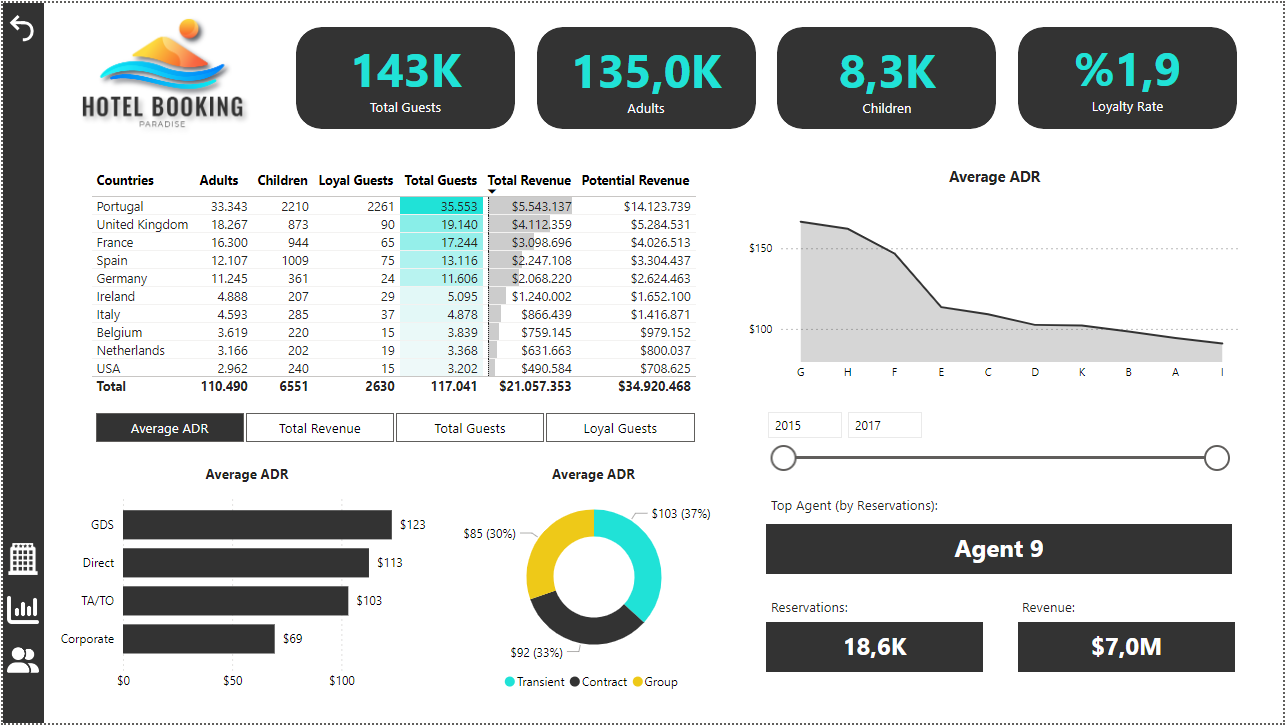

Layout of this report page (visuals, bound fields, positions):
{"tool":"powerbi","page":{"name":"Guests","canvas":[1280,720],"ordinal":2},"visuals":[{"type":"shape","title":"Left Nav Background","box":[0,0,41,720],"z":0},{"type":"shape","box":[292.7,23.7,219,102],"z":0,"group":"g2"},{"type":"card","fields":{"Values":["Measures_Table.Total Guests"]},"box":[295.7,23.7,213,98],"z":0,"group":"g3"},{"type":"group","id":"g1","title":"KPIs","box":[292.7,23.7,941,102],"z":1000},{"type":"shape","box":[533.4,23.7,219,102],"z":1000,"group":"g2"},{"type":"card","fields":{"Values":["Measures_Table.Number of Adults"]},"box":[536.7,25.7,212,97],"z":1000,"group":"g3"},{"type":"shape","box":[774,23.7,219,102],"z":2000,"group":"g2"},{"type":"card","fields":{"Values":["Measures_Table.Number of Children"]},"box":[776.7,25.7,214,97],"z":2000,"group":"g3"},{"type":"donutChart","fields":{"Y":["Measures_Table.Average ADR"],"Category":["hotel_bookings.customer_type"]},"box":[441,462,300,235],"z":2000},{"type":"actionButton","box":[0,637.2,40.9,40],"z":2000,"group":"g4"},{"type":"shape","box":[1014.7,23.7,219,102],"z":3000,"group":"g2"},{"type":"card","fields":{"Values":["Measures_Table.Lotalty Rate"]},"box":[1017.7,23.7,213,97],"z":3000,"group":"g3"},{"type":"slicer","fields":{"Values":["Guest Metric Selection.Guest Metric Selection"]},"box":[67,403,649,43],"z":3000},{"type":"actionButton","box":[0,536,41,40],"z":3000,"group":"g4"},{"type":"clusteredBarChart","fields":{"Y":["Measures_Table.Average ADR"],"Category":["hotel_bookings.distribution_channel"]},"box":[48,462,393,234],"z":4000},{"type":"actionButton","box":[0,586.6,40.9,40],"z":4000,"group":"g4"},{"type":"tableEx","title":"Top 10 Countries","fields":{"Values":["hotel_bookings.country_name","Measures_Table.Adults","Measures_Table.Children","Measures_Table.Loyal Guests","Measures_Table.Total Guests","Measures_Table.Total Revenue","Measures_Table.Potential Revenue"]},"box":[83,163,617,240],"z":5000},{"type":"group","id":"g2","title":"KPI Cards","box":[292.7,23.7,941,102],"z":6000,"group":"g1"},{"type":"areaChart","fields":{"Y":["Measures_Table.Average ADR"],"Category":["hotel_bookings.assigned_room_type"]},"box":[741,163,502,224],"z":6000},{"type":"group","id":"g3","title":"KPI Values","box":[295.7,23.7,935,99],"z":6500,"group":"g1"},{"type":"card","fields":{"Values":["Min(hotel_bookings.agent)"]},"box":[763,521,466,50],"z":7000},{"type":"textbox","box":[763,488,190,33],"z":8000},{"type":"slicer","fields":{"Values":["hotel_bookings.reservation_status_date.Variation.Date Hierarchy.Year"]},"box":[752,399,483,82],"z":9000},{"type":"textbox","box":[763,590,190,33],"z":10000},{"type":"textbox","box":[1014,590,106,33],"z":11000},{"type":"card","fields":{"Values":["Measures_Table.Actual Reservations"]},"box":[763,619,217,50],"z":12000},{"type":"card","fields":{"Values":["Measures_Table.Total Revenue"]},"box":[1015,619,217,50],"z":13000},{"type":"group","id":"g4","title":"Navigation Buttons","box":[0,536,41,141.2],"z":14000},{"type":"image","box":[59,7,207,135],"z":15000},{"type":"actionButton","box":[0.5,7,41,36],"z":16000}]}

Visuals, with their boxes on the page's 1280x720 design canvas (x1, y1, x2, y2). These are canvas units, not pixel positions in the 1287x728 screenshot, which may show the page scaled, cropped or inside an application window:
"Left Nav Background" shape: [x1=0, y1=0, x2=41, y2=720]
shape: [x1=293, y1=24, x2=512, y2=126]
card - Measures_Table.Total Guests: [x1=296, y1=24, x2=509, y2=122]
"KPIs" group: [x1=293, y1=24, x2=1234, y2=126]
shape: [x1=533, y1=24, x2=752, y2=126]
card - Measures_Table.Number of Adults: [x1=537, y1=26, x2=749, y2=123]
shape: [x1=774, y1=24, x2=993, y2=126]
card - Measures_Table.Number of Children: [x1=777, y1=26, x2=991, y2=123]
donutChart - Measures_Table.Average ADR x hotel_bookings.customer_type: [x1=441, y1=462, x2=741, y2=697]
actionButton: [x1=0, y1=637, x2=41, y2=677]
shape: [x1=1015, y1=24, x2=1234, y2=126]
card - Measures_Table.Lotalty Rate: [x1=1018, y1=24, x2=1231, y2=121]
slicer - Guest Metric Selection.Guest Metric Selection: [x1=67, y1=403, x2=716, y2=446]
actionButton: [x1=0, y1=536, x2=41, y2=576]
clusteredBarChart - Measures_Table.Average ADR x hotel_bookings.distribution_channel: [x1=48, y1=462, x2=441, y2=696]
actionButton: [x1=0, y1=587, x2=41, y2=627]
"Top 10 Countries" tableEx: [x1=83, y1=163, x2=700, y2=403]
"KPI Cards" group: [x1=293, y1=24, x2=1234, y2=126]
areaChart - Measures_Table.Average ADR x hotel_bookings.assigned_room_type: [x1=741, y1=163, x2=1243, y2=387]
"KPI Values" group: [x1=296, y1=24, x2=1231, y2=123]
card - Min(hotel_bookings.agent): [x1=763, y1=521, x2=1229, y2=571]
textbox: [x1=763, y1=488, x2=953, y2=521]
slicer - hotel_bookings.reservation_status_date.Variation.Date Hierarchy.Year: [x1=752, y1=399, x2=1235, y2=481]
textbox: [x1=763, y1=590, x2=953, y2=623]
textbox: [x1=1014, y1=590, x2=1120, y2=623]
card - Measures_Table.Actual Reservations: [x1=763, y1=619, x2=980, y2=669]
card - Measures_Table.Total Revenue: [x1=1015, y1=619, x2=1232, y2=669]
"Navigation Buttons" group: [x1=0, y1=536, x2=41, y2=677]
image: [x1=59, y1=7, x2=266, y2=142]
actionButton: [x1=0, y1=7, x2=42, y2=43]
